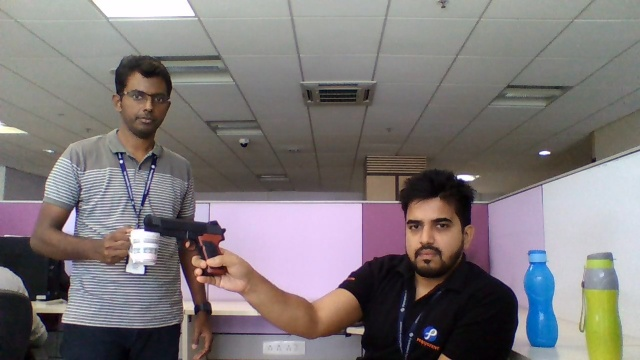gun: (141, 212, 227, 253)
